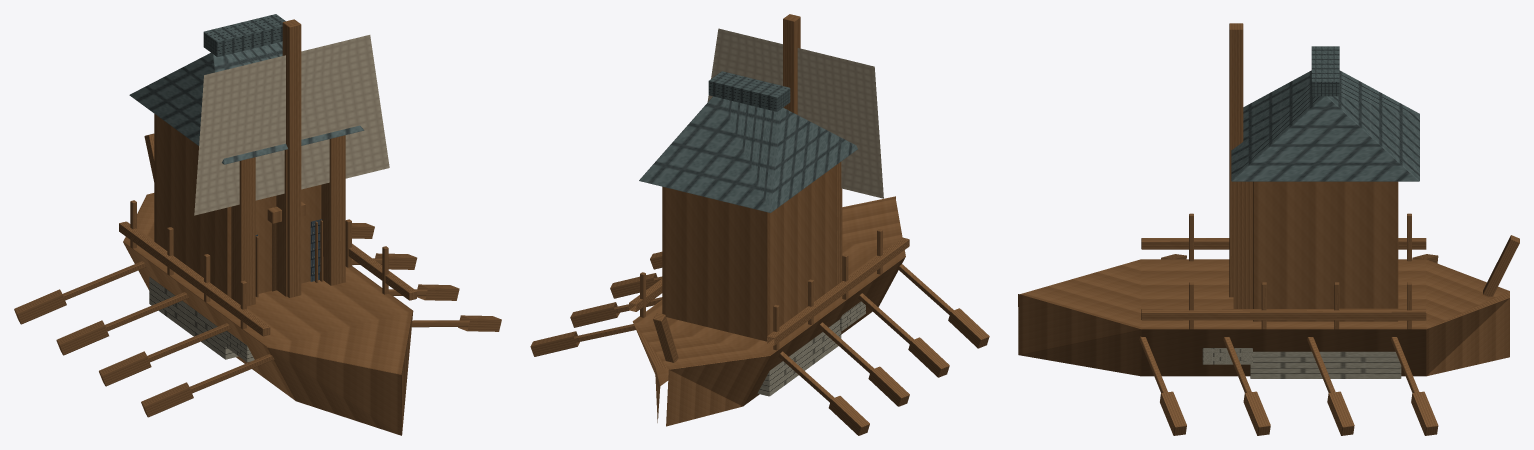
The model's file is unit-WARSHIP-lod0.glb.
3 views of the same model, side by side, from view 1: azimuth 30°, elevation 25°; view 2: azimuth 150°, elevation 25°; view 3: azimuth 270°, elevation 25° (orthographic). The views are drawn at different scales.
Bounding box in the file's own units: 0.7331 × 0.65 × 0.8985.
Materials: 1 (1 with a texture image).
